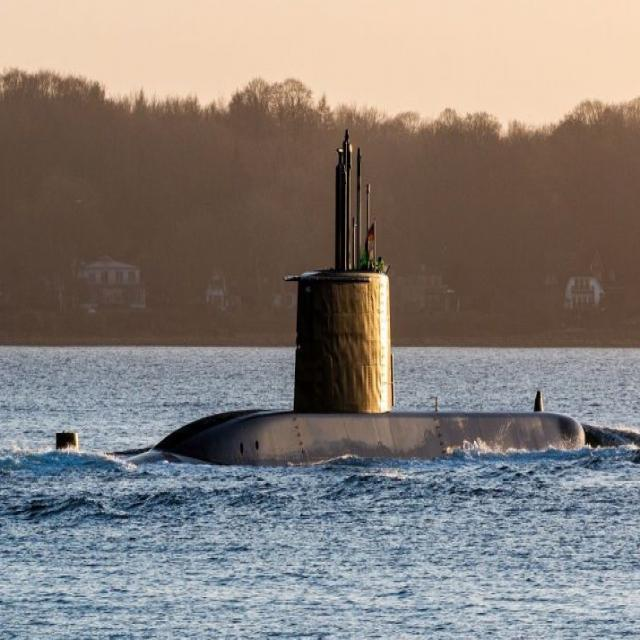submarine: (49, 110, 640, 478)
